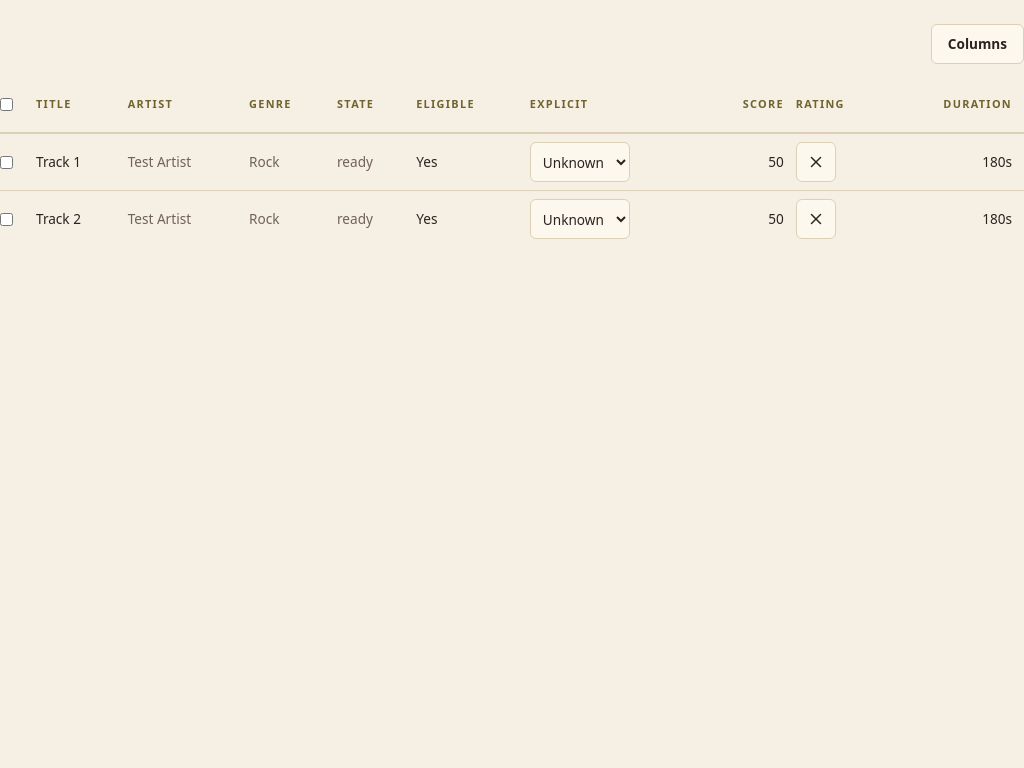
Feature: Catalog selection toolbar and Libraries tab › Scenario: bulk actions confirm and toast › renders a confirm dialog whose consequence copy includes the count
Click the checkbox named "Select Track 1": [6, 162] box [0,156,13,168]
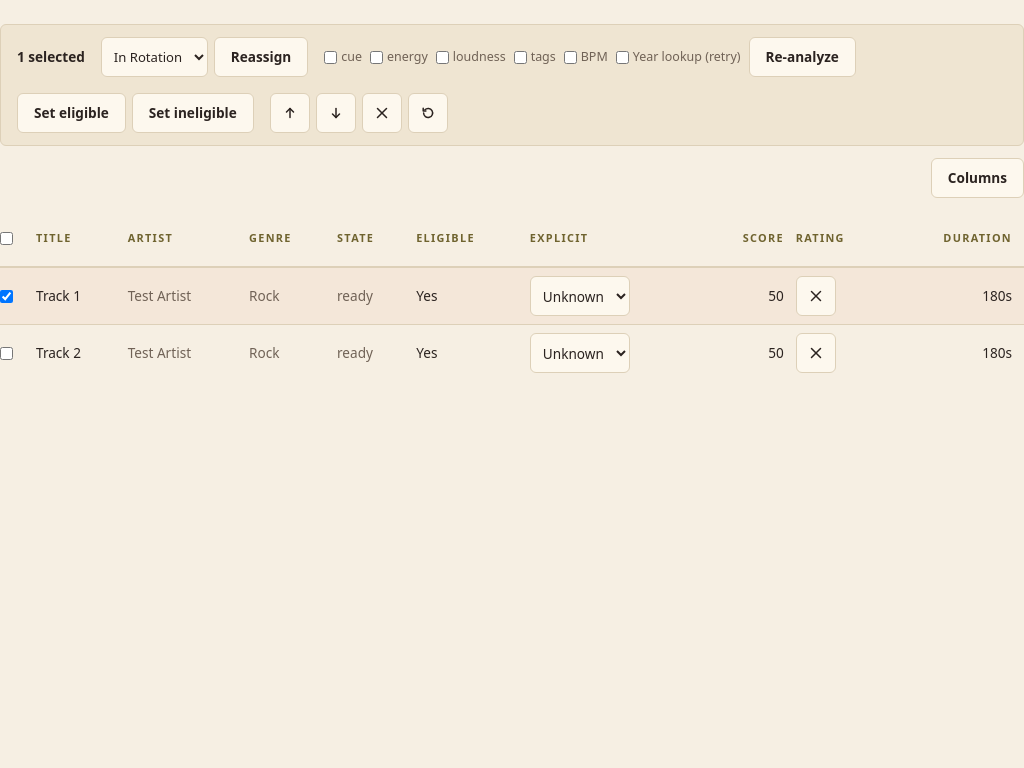
Click the button "Set eligible": [71, 113] box [17,93,126,133]
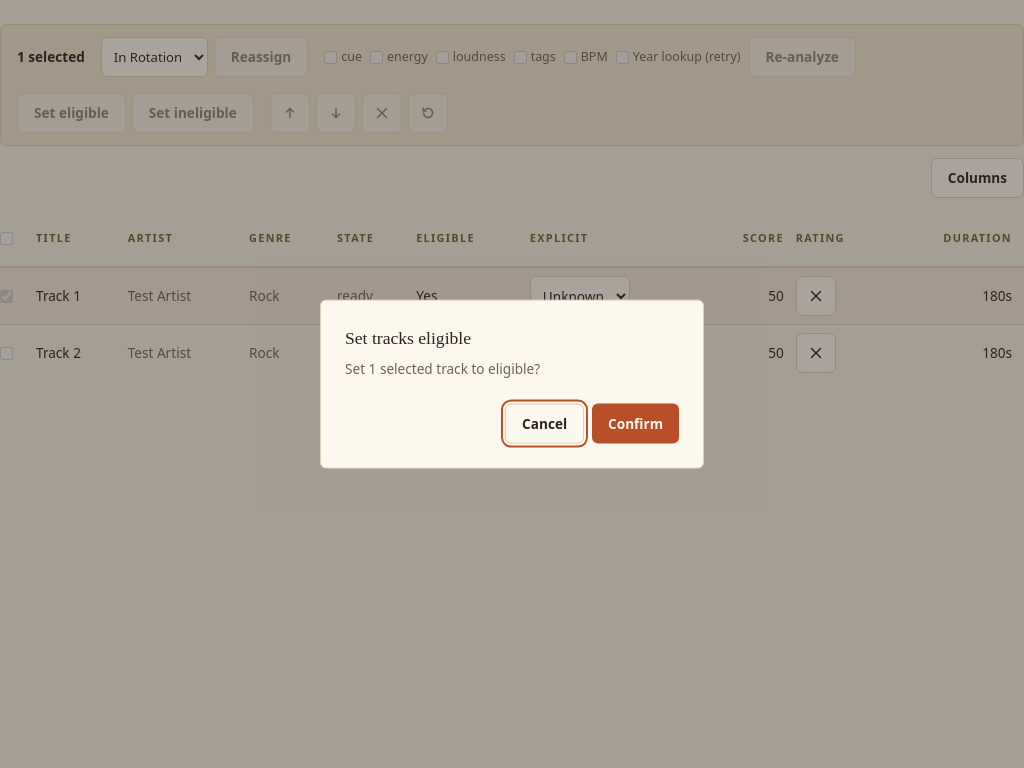
Expected: the dialog shows "1 selected track", [345,359,540,378]
